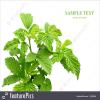Raspberry leaf: (64, 53, 81, 81), (37, 54, 52, 76), (5, 57, 22, 75), (42, 33, 54, 53), (3, 38, 20, 51), (20, 12, 33, 29), (37, 47, 53, 57), (52, 52, 62, 66), (25, 52, 38, 62), (61, 48, 74, 55)
